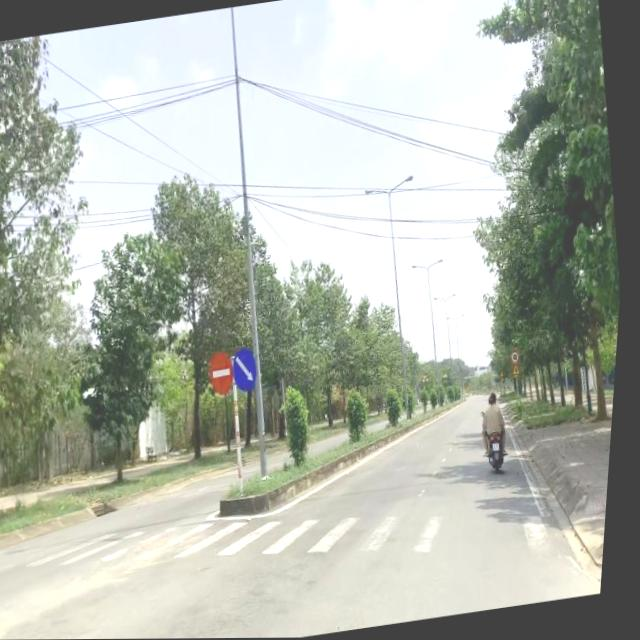Cam di nguoc chieu: (211, 349, 243, 397)
Vong chuong ngai vat sang phai: (234, 345, 266, 395)
